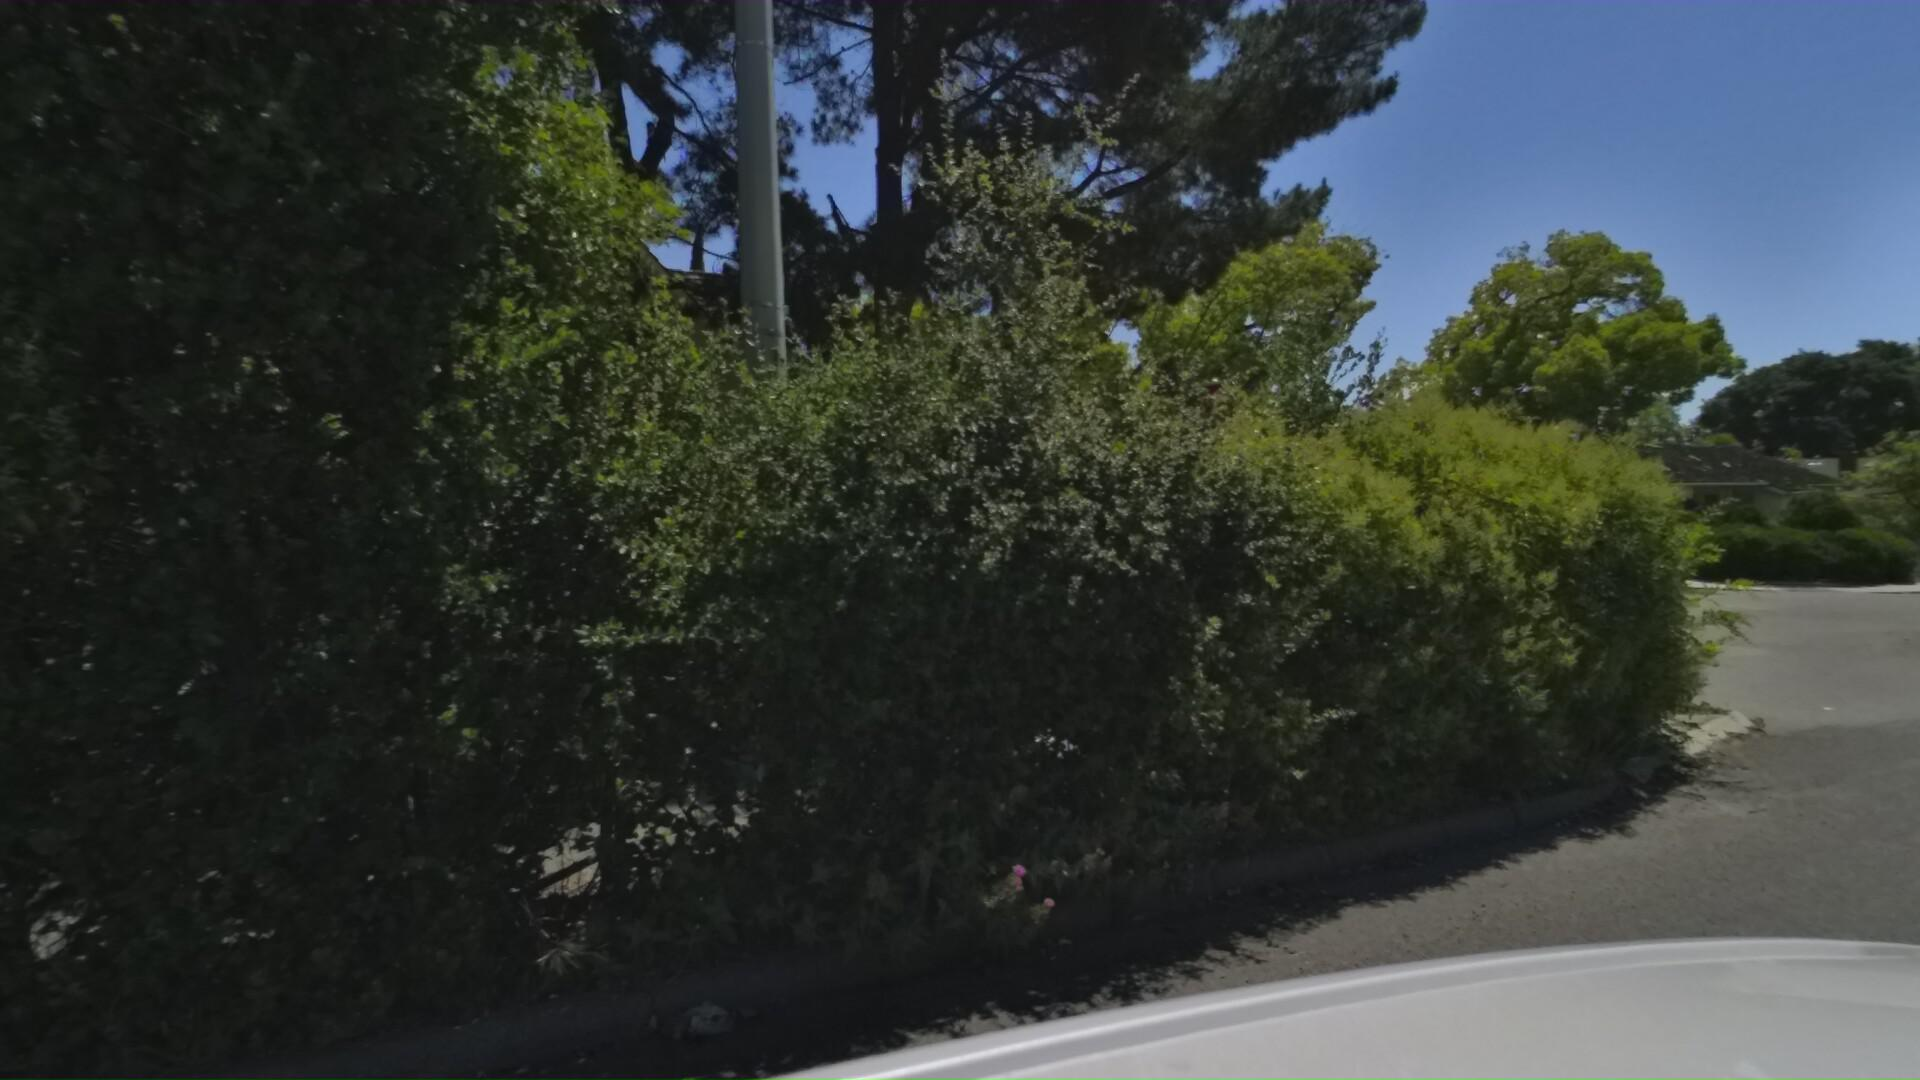car: (0, 579, 357, 992)
